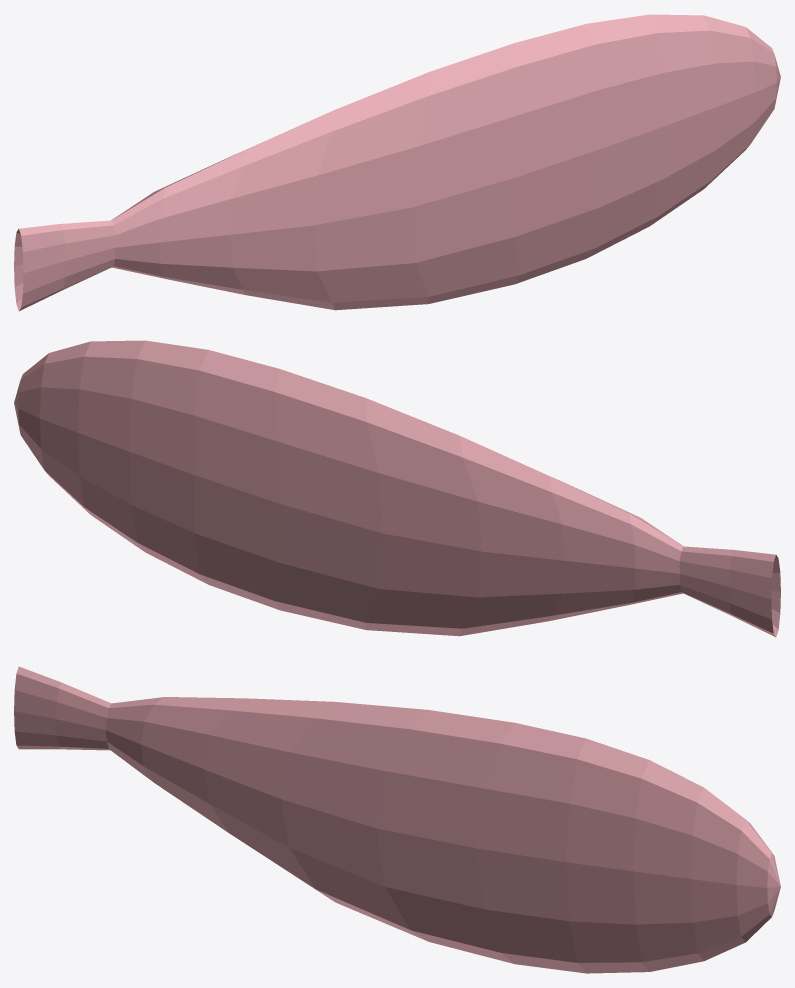
Rendered from Fish02_v1.fbx.
3 views of the same model, one above another, from view 1: azimuth 30°, elevation 25°; view 2: azimuth 150°, elevation 25°; view 3: azimuth 330°, elevation 25° (orthographic).
Parts seen in each view (by area): view 1: Fish02; view 2: Fish02; view 3: Fish02.
Boxes of the visible parts, left/top/right/bottom form: Fish02: left=14, top=14, right=780, bottom=311; Fish02: left=14, top=340, right=780, bottom=637; Fish02: left=14, top=666, right=780, bottom=973.
Size of the model in its own units: 89.06 by 27.14 by 7.5.
